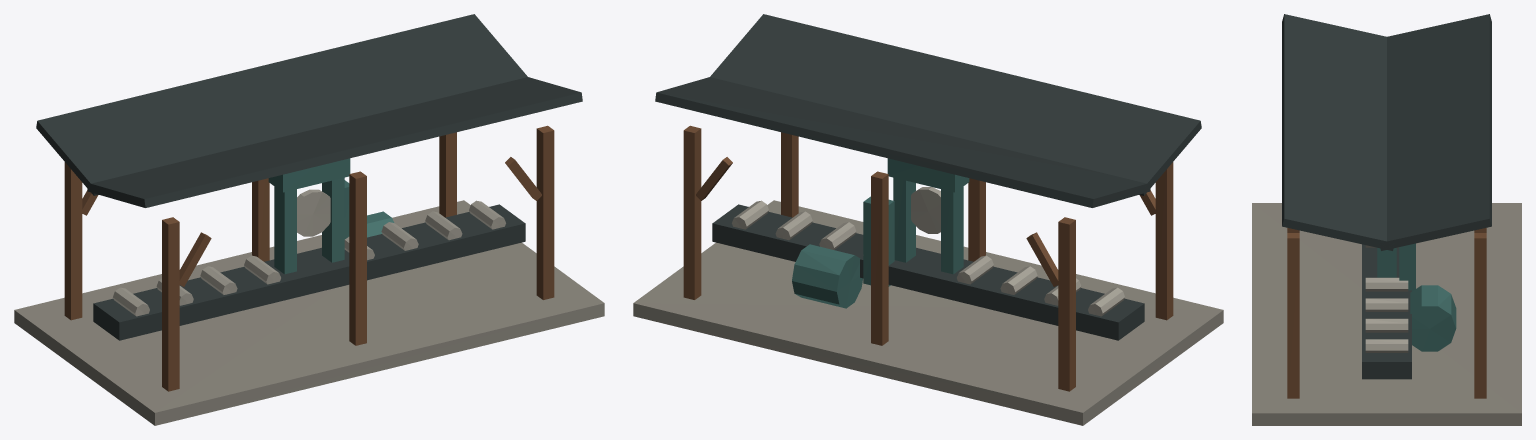
The model's file is Sawmill.glb.
The picture shows the model from 3 angles, left to right: view 1: azimuth 30°, elevation 25°; view 2: azimuth 150°, elevation 25°; view 3: azimuth 270°, elevation 25°; orthographic projection. The views are drawn at different scales.
Parts seen in each view (by area): view 1: sawmill-static-sawmill-charcoal-steel, sawmill-static-sawmill-pale-concrete, sawmill-static-sawmill-shelter-timber, sawmill-static-sawmill-muted-teal-drive, sawmill-static-sawmill-saw-blade; view 2: sawmill-static-sawmill-charcoal-steel, sawmill-static-sawmill-pale-concrete, sawmill-static-sawmill-shelter-timber, sawmill-static-sawmill-muted-teal-drive, sawmill-static-sawmill-saw-blade; view 3: sawmill-static-sawmill-charcoal-steel, sawmill-static-sawmill-pale-concrete, sawmill-static-sawmill-shelter-timber, sawmill-static-sawmill-muted-teal-drive, sawmill-static-sawmill-saw-blade.
Boxes of the visible parts, x1=… form: sawmill-static-sawmill-charcoal-steel: x1=36, y1=14, x2=582, y2=340; sawmill-static-sawmill-pale-concrete: x1=14, y1=200, x2=604, y2=425; sawmill-static-sawmill-shelter-timber: x1=64, y1=125, x2=554, y2=391; sawmill-static-sawmill-muted-teal-drive: x1=268, y1=158, x2=394, y2=274; sawmill-static-sawmill-saw-blade: x1=113, y1=189, x2=505, y2=316; sawmill-static-sawmill-charcoal-steel: x1=655, y1=14, x2=1201, y2=340; sawmill-static-sawmill-pale-concrete: x1=633, y1=200, x2=1223, y2=425; sawmill-static-sawmill-shelter-timber: x1=683, y1=125, x2=1173, y2=391; sawmill-static-sawmill-muted-teal-drive: x1=792, y1=158, x2=969, y2=308; sawmill-static-sawmill-saw-blade: x1=732, y1=187, x2=1124, y2=316; sawmill-static-sawmill-charcoal-steel: x1=1282, y1=14, x2=1491, y2=379; sawmill-static-sawmill-pale-concrete: x1=1252, y1=203, x2=1521, y2=425; sawmill-static-sawmill-shelter-timber: x1=1287, y1=228, x2=1486, y2=398; sawmill-static-sawmill-muted-teal-drive: x1=1377, y1=243, x2=1456, y2=351; sawmill-static-sawmill-saw-blade: x1=1365, y1=245, x2=1408, y2=352.
Bounding box in the file's own units: 7.2 × 3.26 × 3.9.
